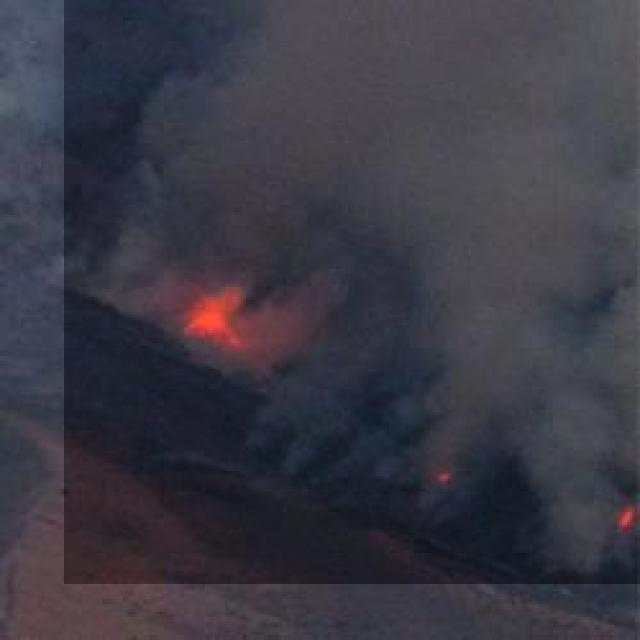Fire: (174, 276, 248, 349), (615, 497, 638, 530), (433, 465, 455, 482)
Smoke: (64, 0, 640, 584)
